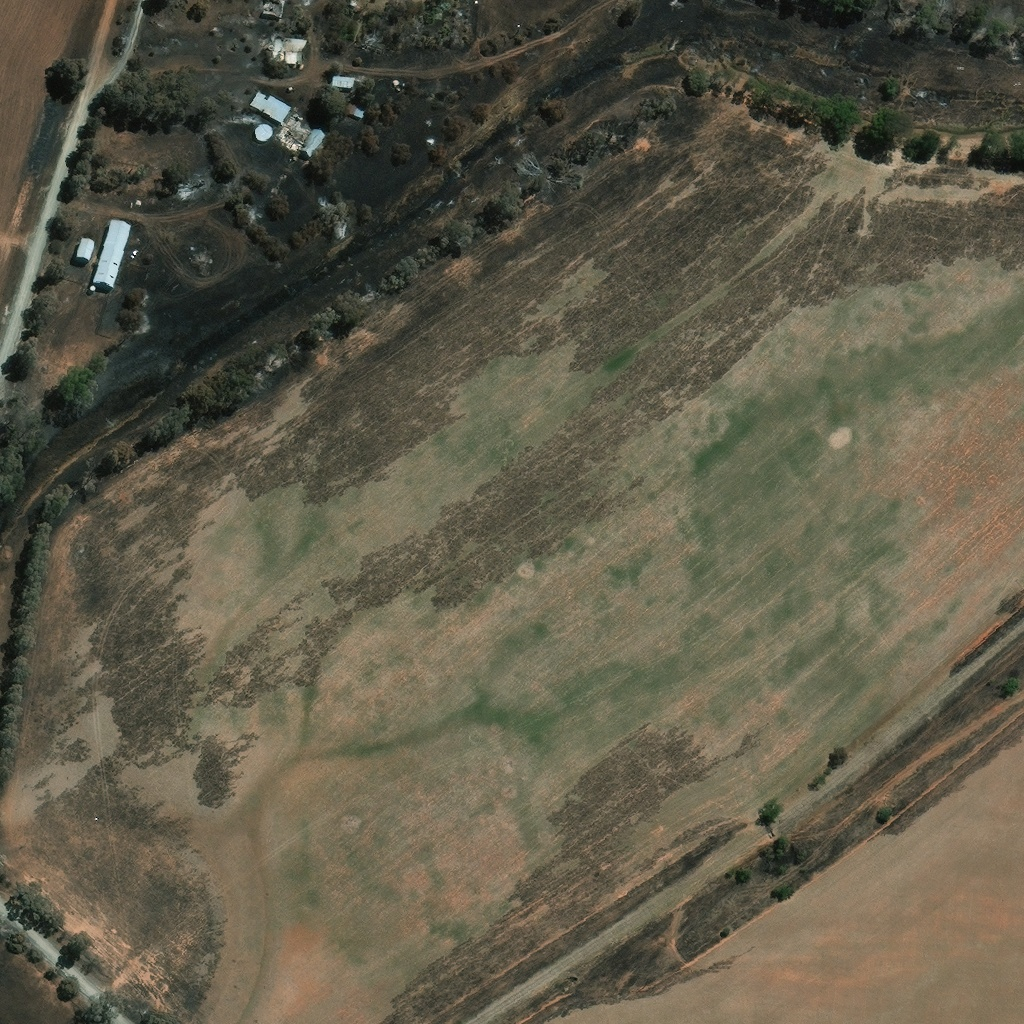0 no-damage: (91, 222, 131, 290), (247, 92, 290, 129), (74, 239, 94, 263), (329, 79, 355, 95), (253, 128, 273, 144), (351, 111, 364, 124), (392, 85, 398, 91), (89, 286, 94, 292), (286, 90, 291, 94)
2 major-damage: (271, 38, 306, 70), (349, 5, 356, 12)
3 destroyed: (274, 117, 324, 162)
